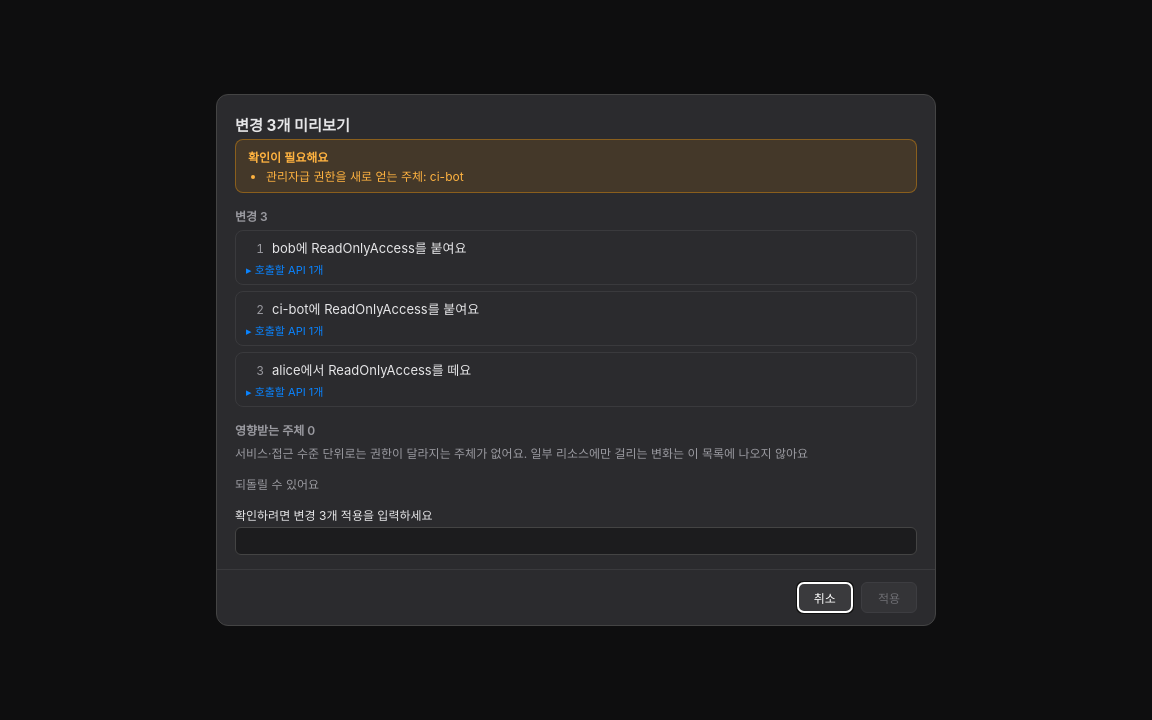
type to confirm › hints when what was typed differs, but not before anything was typed or while a correct start is being typed
The image size is (1152, 720).
Expected: the text "입력한 문구가 달라요" is not shown
In the field labelled "확인하려면 변경 3개 적용을 입력하세요": (576, 541) x1=235 y1=527 x2=917 y2=555, type "변경 3"
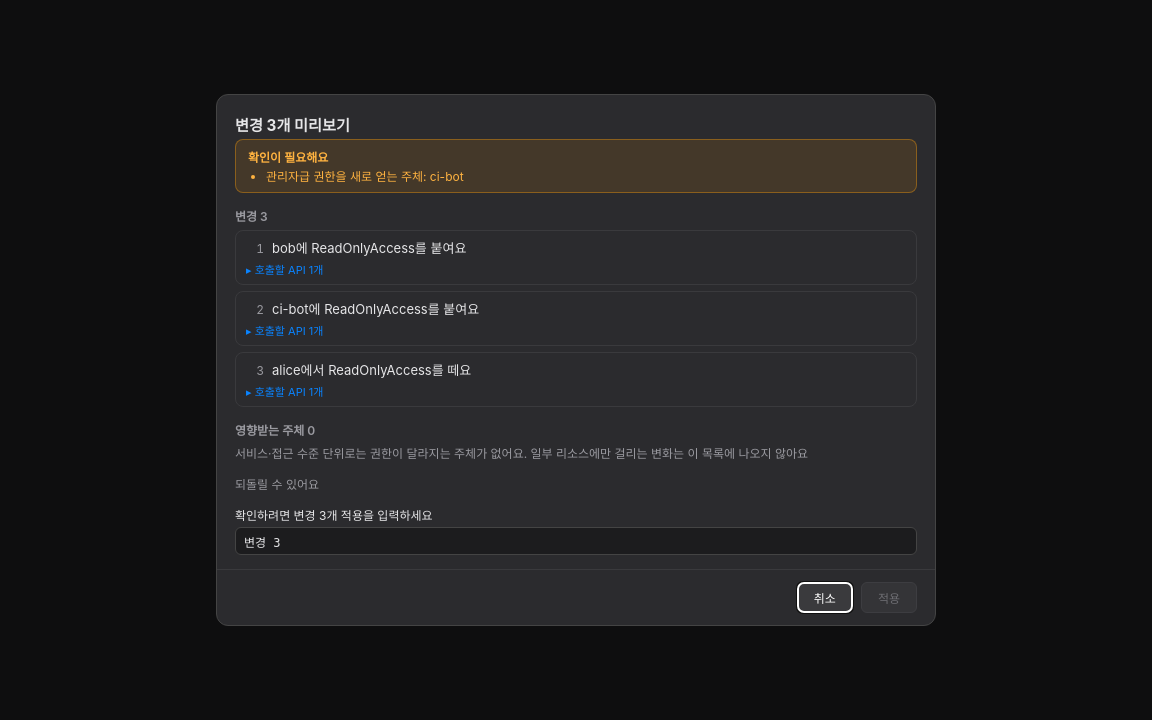
Expected: the text "입력한 문구가 달라요" is not shown
Replace the text in the field labelled "확인하려면 변경 3개 적용을 입력하세요" with "변경 4": (576, 541) x1=235 y1=527 x2=917 y2=555
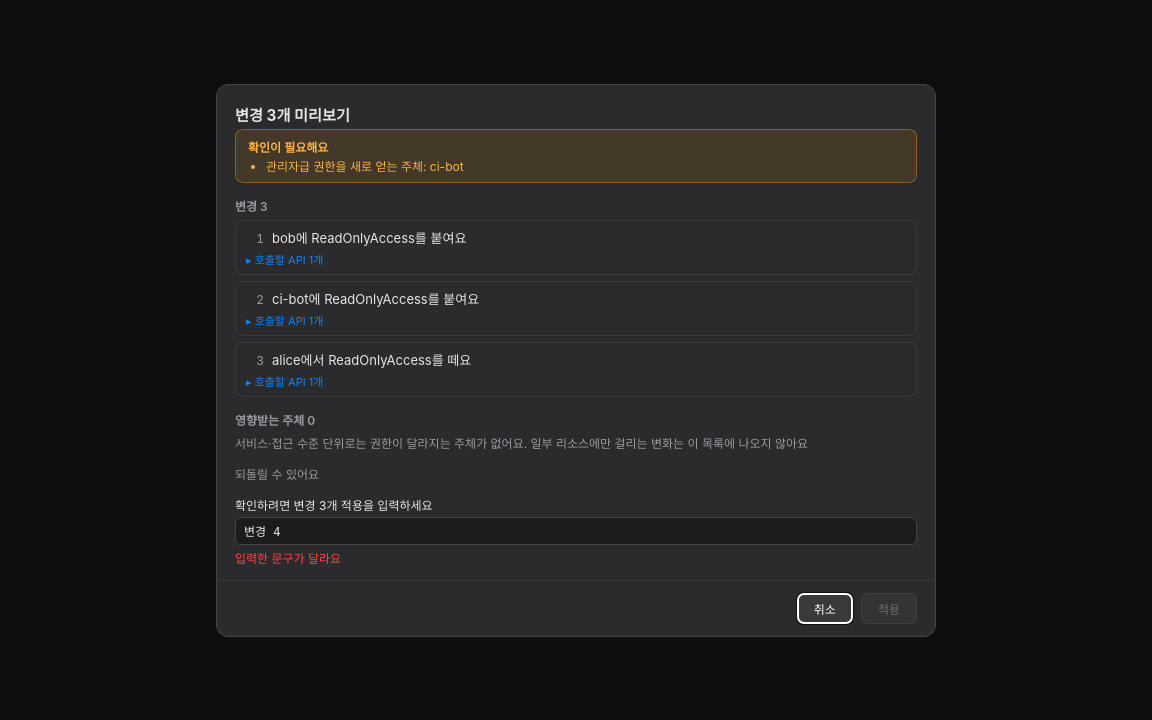
Expected: the text "입력한 문구가 달라요" is shown, x1=235 y1=550 x2=341 y2=566
Replace the text in the field labelled "확인하려면 변경 3개 적용을 입력하세요" with "변경 3개 적용": (576, 530) x1=235 y1=516 x2=917 y2=544
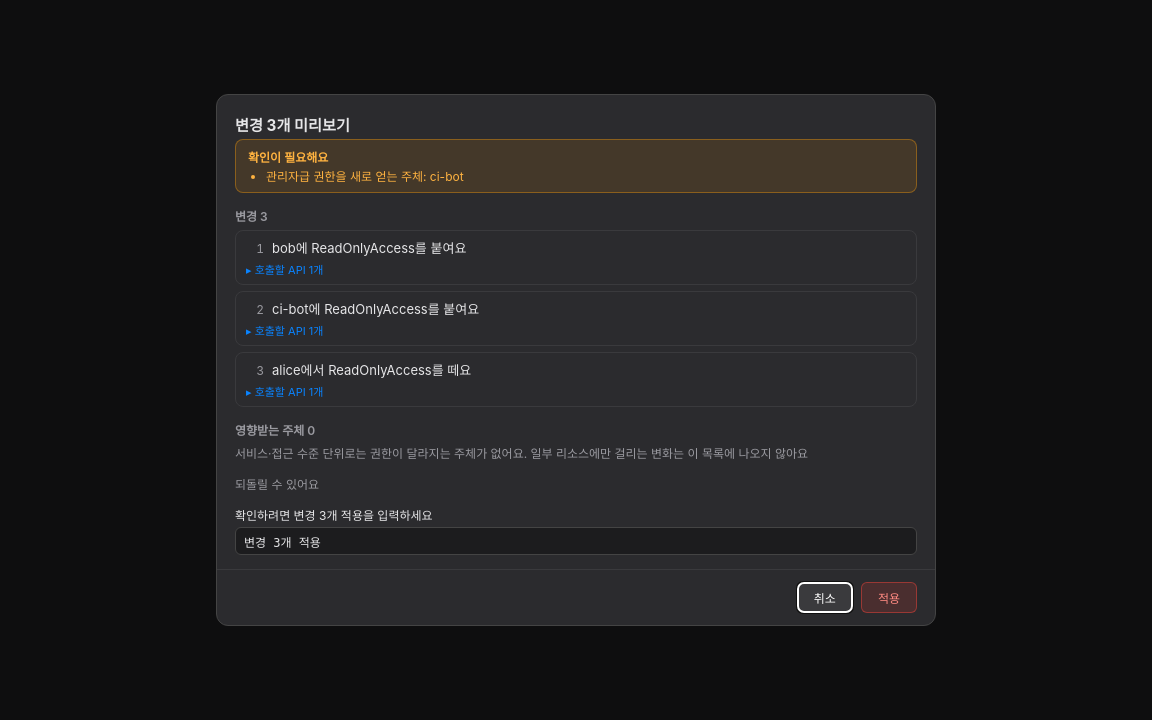
Expected: the text "입력한 문구가 달라요" is gone
